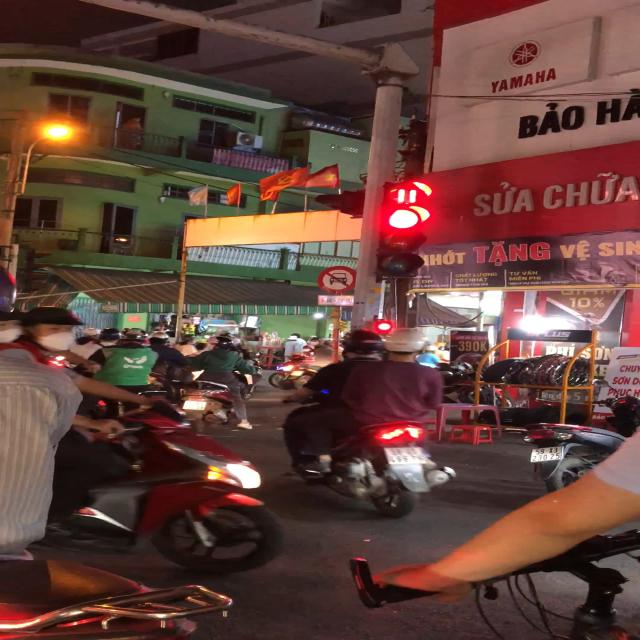Bien bao cam xe oto: (316, 264, 357, 294)
